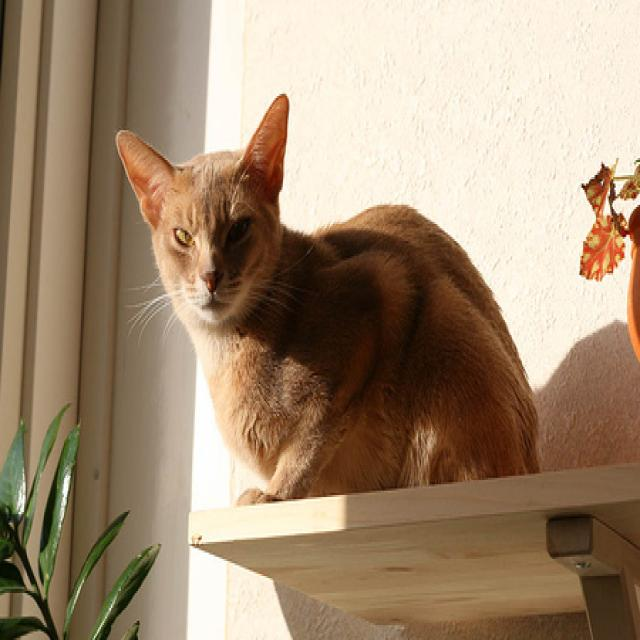Abyssinian: (114, 88, 543, 516)
